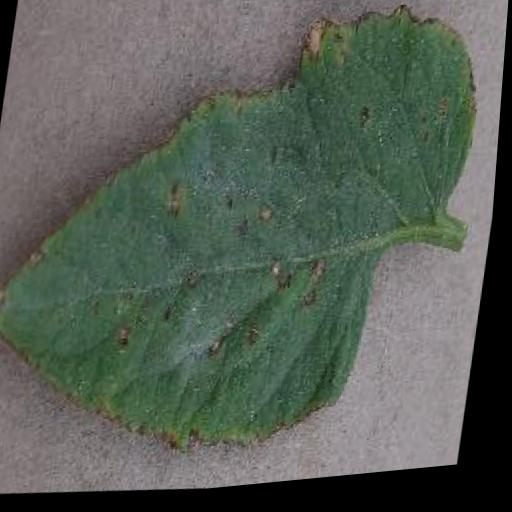Bacterial Spot: (0, 0, 495, 491)
